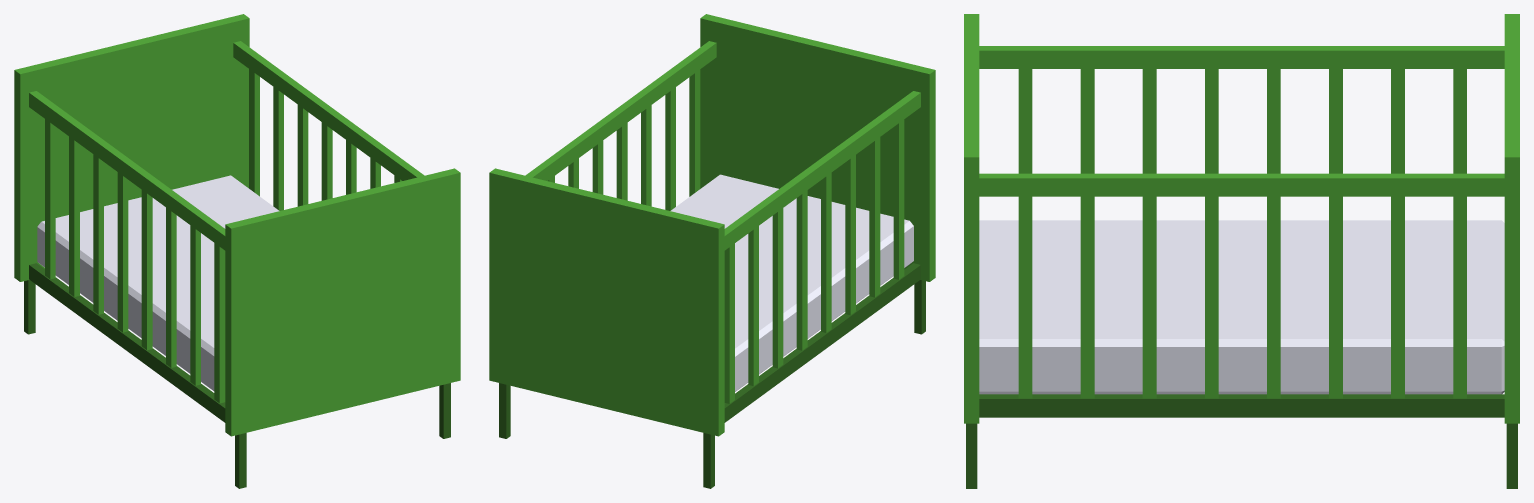
The model's file is Prop_BabyBed_01.fbx.
3 views of the same model, side by side, from view 1: azimuth 30°, elevation 25°; view 2: azimuth 150°, elevation 25°; view 3: azimuth 270°, elevation 25° (orthographic). The views are drawn at different scales.
Visible parts, largest first — view 1: Prop_BabyBed_01; view 2: Prop_BabyBed_01; view 3: Prop_BabyBed_01.
Part boxes in pixels (x1,y1,x2,y2): Prop_BabyBed_01: (14, 14, 460, 488); Prop_BabyBed_01: (489, 14, 935, 488); Prop_BabyBed_01: (964, 14, 1519, 488).
Size of the model in its own units: 72.51 by 79.43 by 119.
